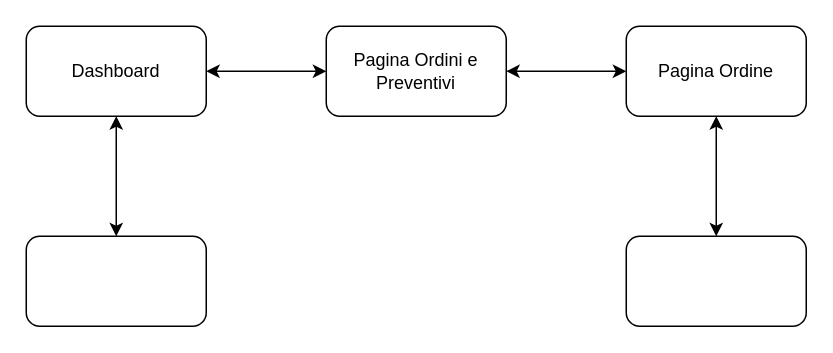
This 833x353 diagram has some shape labels left out. Here are the shapes that lost their labels. From the top down, the box of each, then its label:
(25, 235, 206, 326): Home
(625, 235, 806, 326): Conferma Ordine
